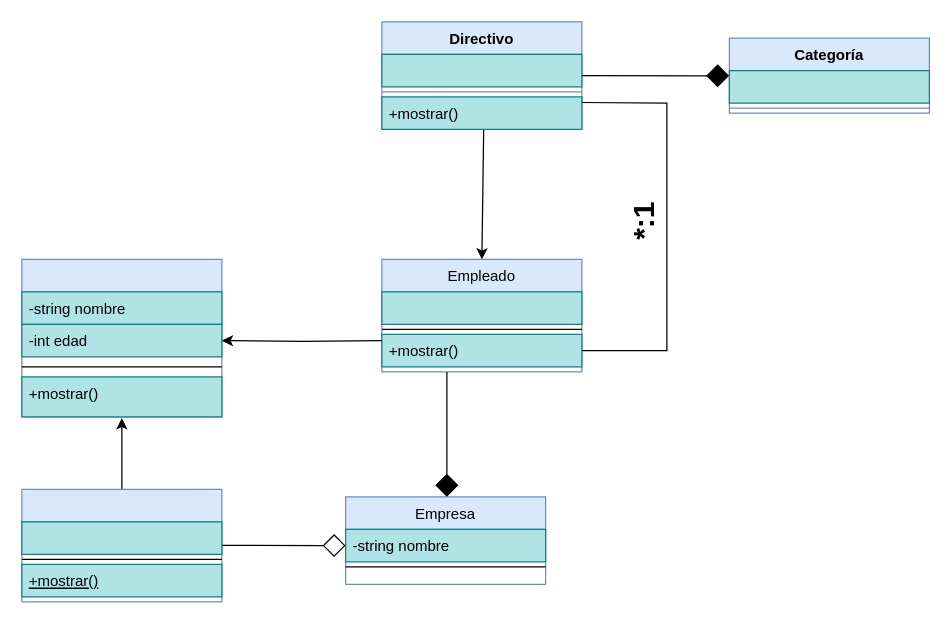
The diagram is 951 pixels wide and 624 high, and some of its shapes have lost their labels. The shapes that lost their labels are listed below. From the top down, each one's box as (x1, y1, x2, y2) in pixels, then its label:
(381, 53, 582, 87): -string categoría
(728, 69, 929, 103): -string tipo[]
(381, 291, 582, 324): -double sueldoBruto
(21, 258, 222, 417): Persona
(21, 521, 222, 554): -string telCont
(21, 488, 222, 602): Cliente
